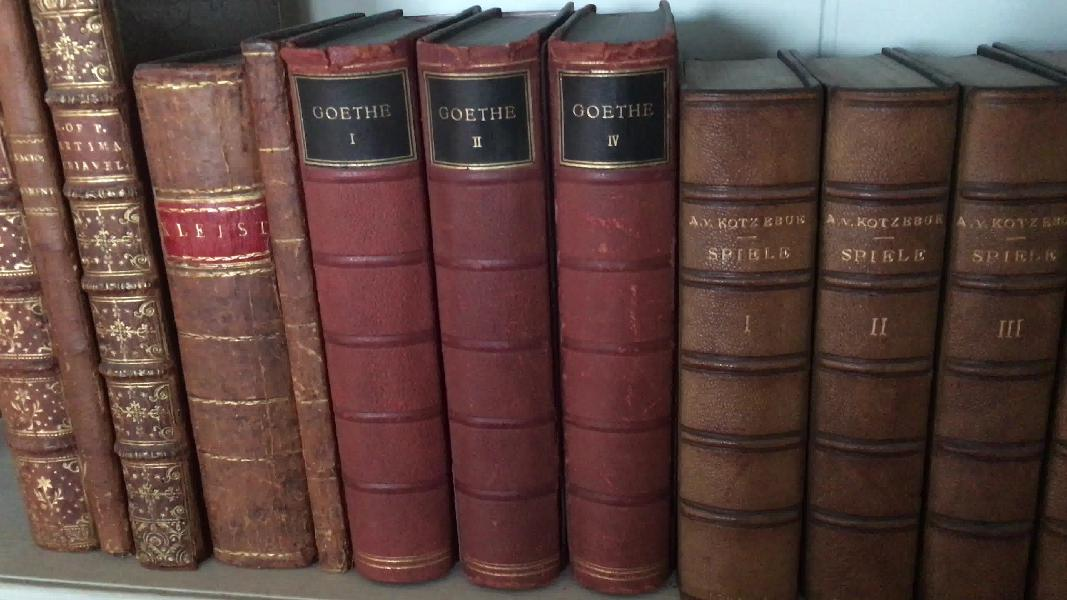Aa6-10: (235, 39, 355, 572)
Aa6-11_13: (282, 45, 681, 600)
Aa6-14_17: (682, 90, 1067, 597)
Aa6-8: (24, 1, 212, 581)
Aa6-9: (109, 52, 317, 565)
